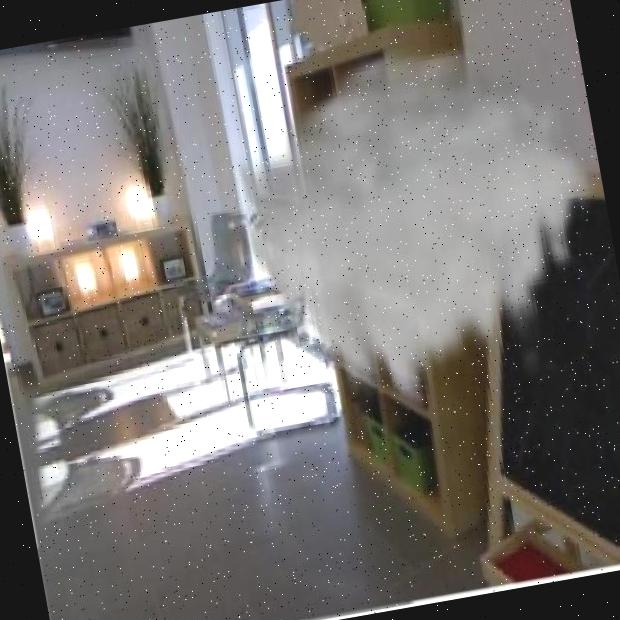smoke: (245, 45, 603, 378)
